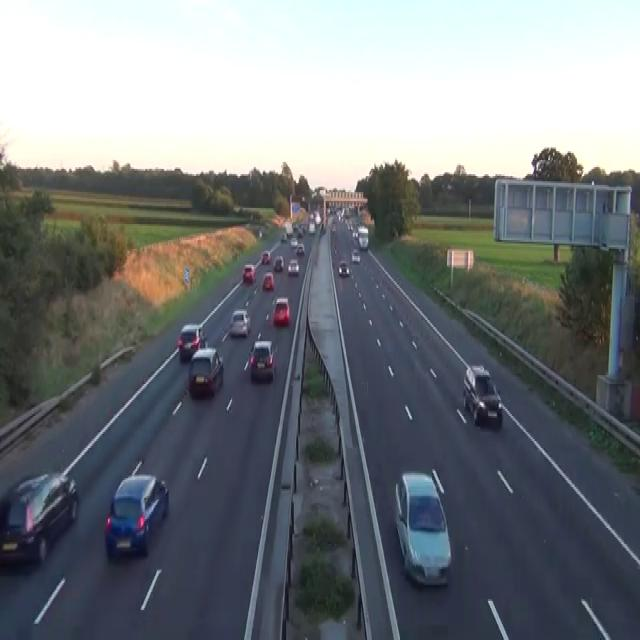Car: (0, 471, 78, 565), (394, 469, 451, 587), (104, 468, 169, 560), (462, 364, 502, 426), (188, 346, 223, 396), (249, 338, 276, 380), (177, 323, 206, 361), (229, 309, 250, 336), (272, 297, 290, 325), (242, 263, 256, 283), (262, 270, 274, 290), (287, 258, 299, 276), (337, 260, 349, 276), (273, 254, 284, 270), (351, 247, 360, 263), (260, 251, 270, 263), (313, 210, 321, 224), (296, 242, 304, 254), (319, 222, 326, 235), (296, 224, 303, 236), (290, 237, 298, 247), (330, 220, 336, 233), (308, 222, 315, 233), (280, 231, 287, 242), (233, 204, 240, 213), (347, 221, 353, 231), (258, 228, 262, 238), (352, 230, 357, 238), (334, 246, 337, 254)
Truck: (357, 226, 369, 249)
